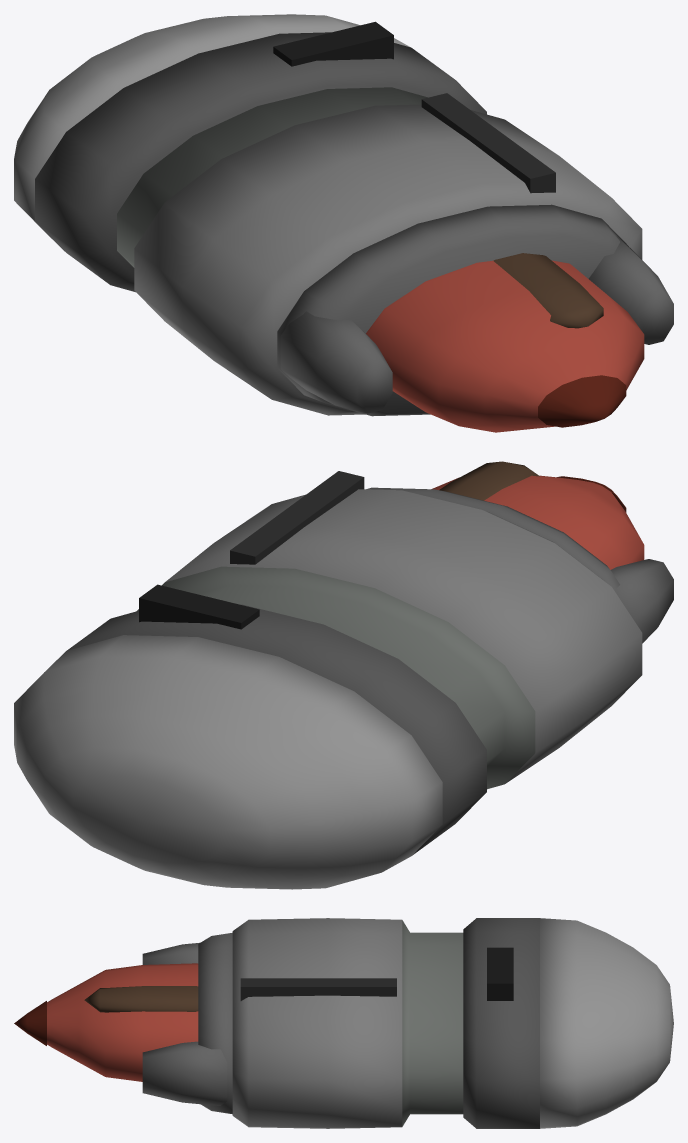
The model's file is newshd-77.glb.
The picture shows the model from 3 angles, top to bottom: view 1: azimuth 30°, elevation 25°; view 2: azimuth 150°, elevation 25°; view 3: azimuth 270°, elevation 25°; orthographic projection. The views are drawn at different scales.
Visible parts, largest first — view 1: newshd-77, newshd-77_details; view 2: newshd-77, newshd-77_details; view 3: newshd-77, newshd-77_details.
Part boxes in pixels (box(x1,y1,x2,y2)): newshd-77: box(14, 14, 673, 432); newshd-77_details: box(273, 21, 555, 193); newshd-77: box(14, 461, 673, 889); newshd-77_details: box(139, 471, 364, 629); newshd-77: box(14, 918, 673, 1128); newshd-77_details: box(240, 947, 513, 1000).
Bounding box in the file's own units: 1.06 × 0.5477 × 2.08.
